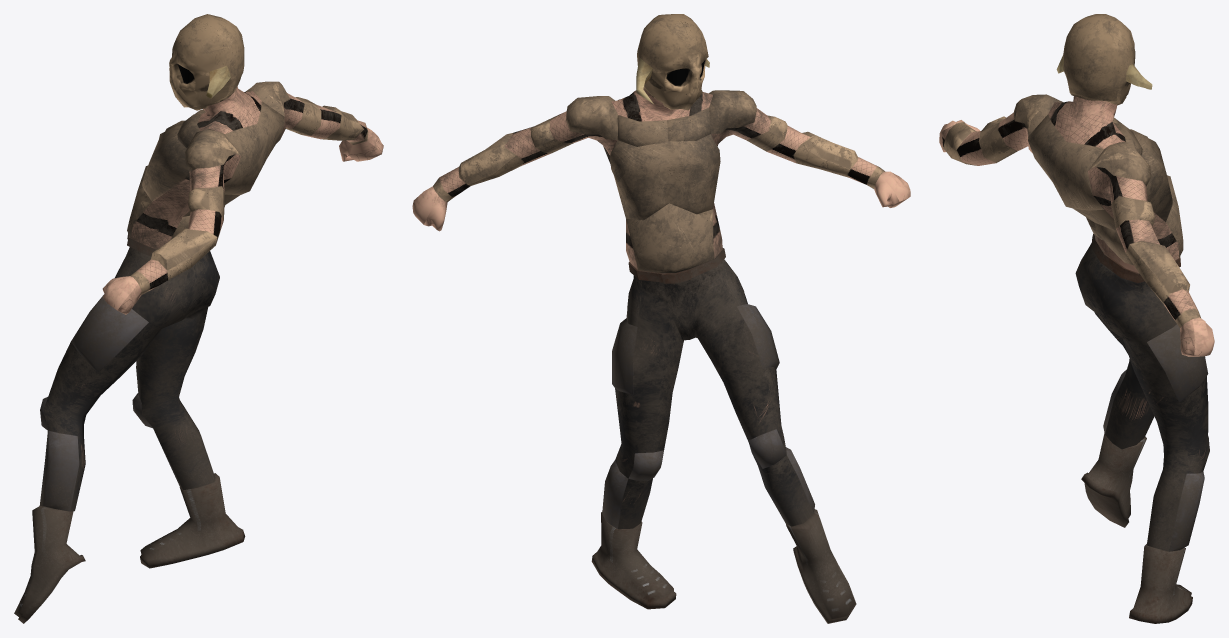
File: Anim_ataque_f3_npc1.0035.obj
The picture shows the model from 3 angles, left to right: view 1: azimuth 30°, elevation 25°; view 2: azimuth 150°, elevation 25°; view 3: azimuth 270°, elevation 25°; orthographic projection. The views are drawn at different scales.
Parts seen in each view (by area): view 1: NPC2; view 2: NPC2; view 3: NPC2.
Part boxes in pixels (box(x1,y1,x2,y2)): NPC2: box(14, 14, 383, 623); NPC2: box(412, 14, 910, 623); NPC2: box(939, 14, 1214, 623).
Size of the model in its own units: 7.05 by 9.43 by 3.94.
